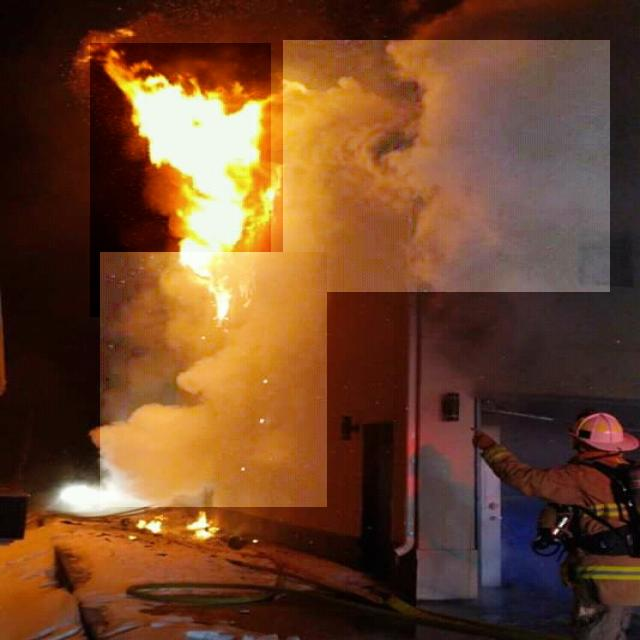Fire: (90, 43, 271, 317), (187, 519, 218, 540)
Smoke: (283, 40, 610, 292), (100, 252, 327, 507)
